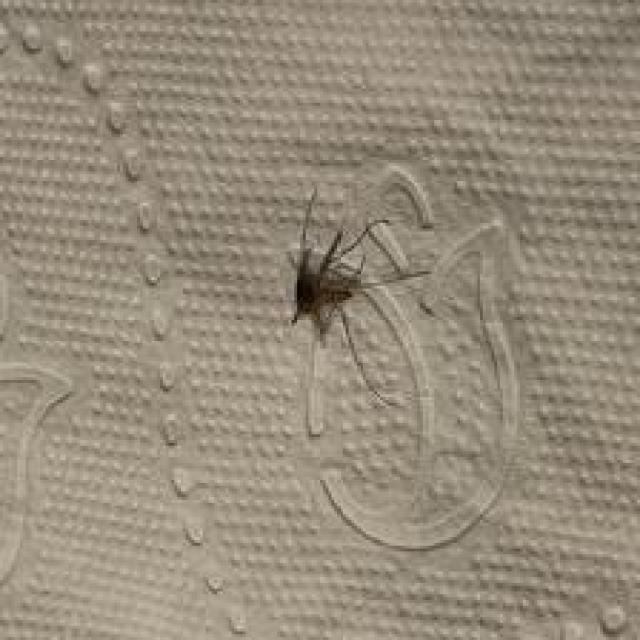Culex: (283, 184, 434, 439)
